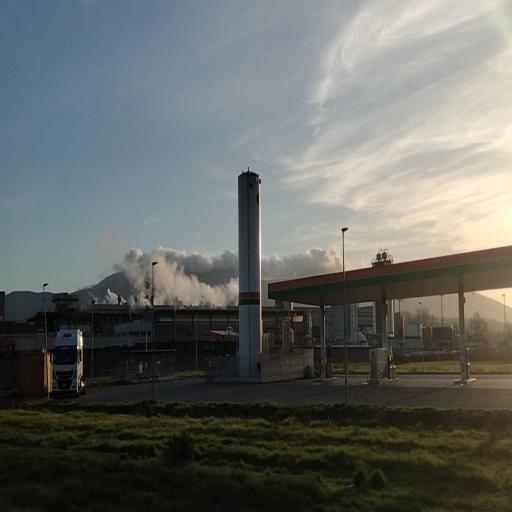leakage: (98, 238, 242, 313)
